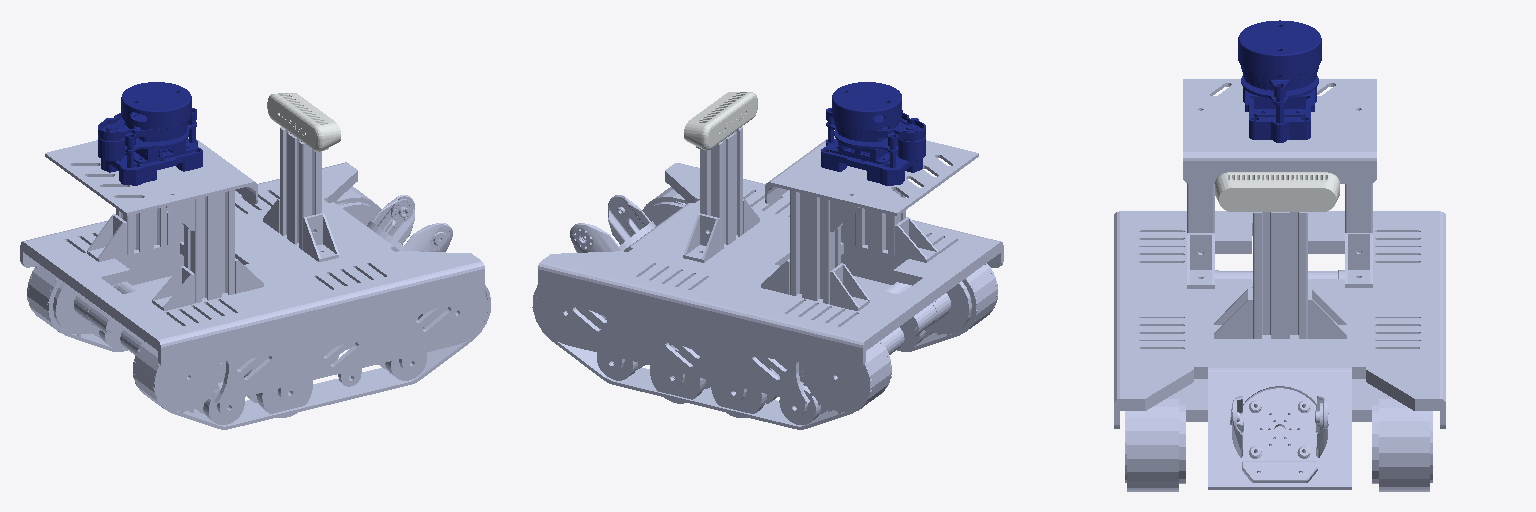
robot.urdf — slam:
<?xml version="1.0" encoding="utf-8"?>
<!-- This URDF was automatically created by SolidWorks to URDF Exporter! Originally created by [author] ([email redacted]) 
     Commit Version: 1.6.0-4-g7f85cfe  Build Version: 1.6.7995.38578
     For more information, please see http://wiki.ros.org/sw_urdf_exporter -->
<robot
  name="slam">
  <link
    name="base_link">
    <inertial>
      <origin
        xyz="7.08905460690135E-05 0.000481084981872881 0.0778548823491357"
        rpy="0 0 0" />
      <mass
        value="2.09949162696511" />
      <inertia
        ixx="0.00734332286725571"
        ixy="1.03087541218458E-05"
        ixz="0.000275530575243915"
        iyy="0.0121281379107237"
        iyz="0.000288164935908131"
        izz="0.017961388323586" />
    </inertial>
    <visual>
      <origin
        xyz="0 0 0"
        rpy="0 0 0" />
      <geometry>
        <mesh
          filename="package://slam/meshes/base_link.STL" />
      </geometry>
      <material
        name="">
        <color
          rgba="0.792156862745098 0.819607843137255 0.933333333333333 1" />
      </material>
    </visual>
    <collision>
      <origin
        xyz="0 0 0"
        rpy="0 0 0" />
      <geometry>
        <mesh
          filename="package://slam/meshes/base_link.STL" />
      </geometry>
    </collision>
  </link>
  <link
    name="wheel_left1_link">
    <inertial>
      <origin
        xyz="-5.55111512312578E-17 4.16333634234434E-17 0.0178230616302186"
        rpy="0 0 0" />
      <mass
        value="0.0414808039998363" />
      <inertia
        ixx="1.26297041000083E-05"
        ixy="-2.30093800126185E-38"
        ixz="-3.52660070687731E-39"
        iyy="1.26297041000083E-05"
        iyz="-5.77601258280972E-22"
        izz="1.23455181234334E-05" />
    </inertial>
    <visual>
      <origin
        xyz="0 0 0"
        rpy="0 0 0" />
      <geometry>
        <mesh
          filename="package://slam/meshes/wheel_left1_link.STL" />
      </geometry>
      <material
        name="">
        <color
          rgba="0.792156862745098 0.819607843137255 0.933333333333333 1" />
      </material>
    </visual>
    <collision>
      <origin
        xyz="0 0 0"
        rpy="0 0 0" />
      <geometry>
        <mesh
          filename="package://slam/meshes/wheel_left1_link.STL" />
      </geometry>
    </collision>
  </link>
  <joint
    name="wheel_left1_joint"
    type="continuous">
    <origin
      xyz="0.030040943208751 0.107 0.020999720595931"
      rpy="1.5707963267949 0 0" />
    <parent
      link="base_link" />
    <child
      link="wheel_left1_link" />
    <axis
      xyz="0 0 -1" />
  </joint>
  <link
    name="wheel_left2_link">
    <inertial>
      <origin
        xyz="-2.77555756156289E-17 4.16333634234434E-16 0.0178230616302186"
        rpy="0 0 0" />
      <mass
        value="0.0414808039998362" />
      <inertia
        ixx="1.26297041000083E-05"
        ixy="-1.00317351992554E-22"
        ixz="-1.58990528709187E-21"
        iyy="1.26297041000083E-05"
        iyz="4.75821462374673E-22"
        izz="1.23455181234334E-05" />
    </inertial>
    <visual>
      <origin
        xyz="0 0 0"
        rpy="0 0 0" />
      <geometry>
        <mesh
          filename="package://slam/meshes/wheel_left2_link.STL" />
      </geometry>
      <material
        name="">
        <color
          rgba="0.792156862745098 0.819607843137255 0.933333333333333 1" />
      </material>
    </visual>
    <collision>
      <origin
        xyz="0 0 0"
        rpy="0 0 0" />
      <geometry>
        <mesh
          filename="package://slam/meshes/wheel_left2_link.STL" />
      </geometry>
    </collision>
  </link>
  <joint
    name="wheel_left2_joint"
    type="continuous">
    <origin
      xyz="-0.029959056791249 0.1065 0.0209997205959308"
      rpy="1.5707963267949 0 0" />
    <parent
      link="base_link" />
    <child
      link="wheel_left2_link" />
    <axis
      xyz="0 0 -1" />
  </joint>
  <link
    name="wheel_right1_link">
    <inertial>
      <origin
        xyz="0 0 -0.0171769383697813"
        rpy="0 0 0" />
      <mass
        value="0.0414808039998362" />
      <inertia
        ixx="1.26297041000083E-05"
        ixy="-2.67045944210272E-22"
        ixz="-4.90527107634727E-22"
        iyy="1.26297041000083E-05"
        iyz="4.50151290698444E-22"
        izz="1.23455181234334E-05" />
    </inertial>
    <visual>
      <origin
        xyz="0 0 0"
        rpy="0 0 0" />
      <geometry>
        <mesh
          filename="package://slam/meshes/wheel_right1_link.STL" />
      </geometry>
      <material
        name="">
        <color
          rgba="0.792156862745098 0.819607843137255 0.933333333333333 1" />
      </material>
    </visual>
    <collision>
      <origin
        xyz="0 0 0"
        rpy="0 0 0" />
      <geometry>
        <mesh
          filename="package://slam/meshes/wheel_right1_link.STL" />
      </geometry>
    </collision>
  </link>
  <joint
    name="wheel_right1_joint"
    type="continuous">
    <origin
      xyz="0.030040943208751 -0.107 0.020999720595931"
      rpy="1.5707963267949 0 0" />
    <parent
      link="base_link" />
    <child
      link="wheel_right1_link" />
    <axis
      xyz="0 0 -1" />
  </joint>
  <link
    name="wheel_right2_link">
    <inertial>
      <origin
        xyz="5.55111512312578E-17 -4.16333634234434E-17 -0.0171769383697813"
        rpy="0 0 0" />
      <mass
        value="0.0414808039998362" />
      <inertia
        ixx="1.26297041000083E-05"
        ixy="-1.01609821699666E-22"
        ixz="-4.9438728382664E-22"
        iyy="1.26297041000083E-05"
        iyz="4.50151290698444E-22"
        izz="1.23455181234333E-05" />
    </inertial>
    <visual>
      <origin
        xyz="0 0 0"
        rpy="0 0 0" />
      <geometry>
        <mesh
          filename="package://slam/meshes/wheel_right2_link.STL" />
      </geometry>
      <material
        name="">
        <color
          rgba="0.792156862745098 0.819607843137255 0.933333333333333 1" />
      </material>
    </visual>
    <collision>
      <origin
        xyz="0 0 0"
        rpy="0 0 0" />
      <geometry>
        <mesh
          filename="package://slam/meshes/wheel_right2_link.STL" />
      </geometry>
    </collision>
  </link>
  <joint
    name="wheel_right2_joint"
    type="continuous">
    <origin
      xyz="-0.029959056791249 -0.106 0.0209997205959308"
      rpy="1.5707963267949 0 0" />
    <parent
      link="base_link" />
    <child
      link="wheel_right2_link" />
    <axis
      xyz="0 0 -1" />
  </joint>
  <link
    name="camera_link">
    <inertial>
      <origin
        xyz="0.00697855527730018 -1.06579532170858E-05 0.0124683335079481"
        rpy="0 0 0" />
      <mass
        value="0.107910438139434" />
      <inertia
        ixx="7.12550253062256E-05"
        ixy="2.3393219677949E-08"
        ixz="-4.92986158651598E-08"
        iyy="7.71002569801307E-06"
        iyz="2.44769054883931E-10"
        izz="7.02567402877273E-05" />
    </inertial>
    <visual>
      <origin
        xyz="0 0 0"
        rpy="0 0 0" />
      <geometry>
        <mesh
          filename="package://slam/meshes/camera_link.STL" />
      </geometry>
      <material
        name="">
        <color
          rgba="0.898039215686275 0.917647058823529 0.929411764705882 1" />
      </material>
    </visual>
    <collision>
      <origin
        xyz="0 0 0"
        rpy="0 0 0" />
      <geometry>
        <mesh
          filename="package://slam/meshes/camera_link.STL" />
      </geometry>
    </collision>
  </link>
  <joint
    name="camera_joint"
    type="fixed">
    <origin
      xyz="0.0398464983353151 -0.00077408377455257 0.227605789912602"
      rpy="3.14159265358979 0 0" />
    <parent
      link="base_link" />
    <child
      link="camera_link" />
    <axis
      xyz="0 0 0" />
  </joint>
  <link
    name="lidar_link">
    <inertial>
      <origin
        xyz="-0.00712869032004071 2.01051559330367E-05 -0.03984851696699"
        rpy="0 0 0" />
      <mass
        value="0.0988519659696647" />
      <inertia
        ixx="2.01670226712523E-05"
        ixy="1.77520034791036E-08"
        ixz="-2.26332784491912E-06"
        iyy="5.01382792579843E-05"
        iyz="7.53617057520932E-09"
        izz="6.58296362275907E-05" />
    </inertial>
    <visual>
      <origin
        xyz="0 0 0"
        rpy="0 0 0" />
      <geometry>
        <mesh
          filename="package://slam/meshes/lidar_link.STL" />
      </geometry>
      <material
        name="">
        <color
          rgba="0.188235294117647 0.231372549019608 0.588235294117647 1" />
      </material>
    </visual>
    <collision>
      <origin
        xyz="0 0 0"
        rpy="0 0 0" />
      <geometry>
        <mesh
          filename="package://slam/meshes/lidar_link.STL" />
      </geometry>
    </collision>
  </link>
  <joint
    name="lidar_joint"
    type="fixed">
    <origin
      xyz="-0.0976627823325977 0.000970509112063533 0.271318441191774"
      rpy="0 0 0" />
    <parent
      link="base_link" />
    <child
      link="lidar_link" />
    <axis
      xyz="0 0 0" />
  </joint>
  
  <gazebo>
  <plugin name="diff_drive_controller" filename="libgazebo_ros_diff_drive.so">
    <!-- Bật TF odom -> base_link -->
    <publishTf>true</publishTf>

    <!-- ROS namespace và remap topic -->
    <ros>
      <namespace>/</namespace>
      <remapping>cmd_vel:=/cmd_vel</remapping>
      <remapping>odom:=/odom</remapping>
    </ros>

    <!-- Khai báo joints đầy đủ (4 bánh xe) -->
    <leftJoint>wheel_left1_joint</leftJoint>
    <leftJoint>wheel_left2_joint</leftJoint>
    <rightJoint>wheel_right1_joint</rightJoint>
    <rightJoint>wheel_right2_joint</rightJoint>

    <!-- Thông số bánh xe -->
    <wheelSeparation>0.1785</wheelSeparation> <!-- Khoảng cách ngang giữa 2 bánh xe trái và phải -->
    <wheelDiameter>0.048</wheelDiameter>
    <wheelAcceleration>1.0</wheelAcceleration>
    <wheelTorque>10</wheelTorque>
    <velocityDecay>0.01</velocityDecay> <!-- giảm trượt bánh -->

    <!-- Chủ đề và khung TF -->
    <commandTopic>/cmd_vel</commandTopic>
    <odometryTopic>/odom</odometryTopic>
    <odometryFrame>odom</odometryFrame>
    <robotBaseFrame>base_link</robotBaseFrame>

    <!-- Xuất bản TF và Joint state -->
    <publishOdom>true</publishOdom>
    <publishOdomTF>true</publishOdomTF>
    <publishWheelTF>false</publishWheelTF>
    <publishWheelJointState>true</publishWheelJointState>

    <!-- Tần số cập nhật -->
    <updateRate>100</updateRate>

    <!-- Nguồn dữ liệu odometry -->
    <odometrySource>encoder</odometrySource>

    <!-- Chế độ tương thích -->
    <legacyMode>false</legacyMode>
  </plugin>
</gazebo>


<gazebo reference="lidar_link">
   <material>Gazebo/FlatBlack</material>
   
   <sensor type="ray" name="head_rplidar_sensor">
      <pose>0 0 0 0 0 0</pose>
      <visualize>true</visualize>
      <update_rate>10.0</update_rate> <!-- Giảm xuống 10 Hz -->
      
      <ray>
         <scan>
            <horizontal>
               <samples>720</samples> <!-- Tăng lên 360 mẫu -->
               <resolution>1</resolution>
               <min_angle>-3.1415</min_angle>
               <max_angle>3.1415</max_angle>
            </horizontal>
         </scan>
         
         <range>
            <min>0.120</min>
            <max>10</max>
            <resolution>0.015</resolution>
         </range>
      </ray>
      
      <plugin name="gazebo_ros_head_rplidar_controller" filename="libgazebo_ros_laser.so">
         <topicName>scan</topicName>
         <frameName>lidar_link</frameName>
         <gaussianNoise>0.01</gaussianNoise>
      </plugin>
   </sensor>
</gazebo>

</robot>

--- What the picture shows (computed from the rendered views, not written in the file) ---
Views: 3 orthographic renders of the robot side by side, from view 1: azimuth 30°, elevation 25°; view 2: azimuth 150°, elevation 25°; view 3: azimuth 270°, elevation 25°.
Model slam with 7 links and 6 joints (4 continuous, 2 fixed), rooted at base_link, posed all joints at 0.
Visible links, largest first — view 1: base_link, lidar_link, camera_link, wheel_right2_link; view 2: base_link, lidar_link, camera_link, wheel_left1_link, wheel_left2_link; view 3: base_link, lidar_link, camera_link.
Boxes of the visible links, x1=… form: base_link: x1=20, y1=127, x2=490, y2=429; lidar_link: x1=98, y1=82, x2=202, y2=185; camera_link: x1=267, y1=93, x2=340, y2=151; wheel_right2_link: x1=244, y1=356, x2=312, y2=417; base_link: x1=532, y1=127, x2=1003, y2=429; lidar_link: x1=821, y1=82, x2=925, y2=185; camera_link: x1=684, y1=92, x2=757, y2=150; wheel_left1_link: x1=650, y1=344, x2=710, y2=403; wheel_left2_link: x1=711, y1=357, x2=779, y2=417; base_link: x1=1114, y1=79, x2=1445, y2=491; lidar_link: x1=1238, y1=20, x2=1321, y2=142; camera_link: x1=1215, y1=172, x2=1339, y2=211.
Bounding box of the posed robot: 0.3436 × 0.24 × 0.2753 m (x, y, z).
6 mesh visuals loaded from 7 distinct referenced files (6 binary STL); not drawn: 1 (reference not matched to a file when rendering).
